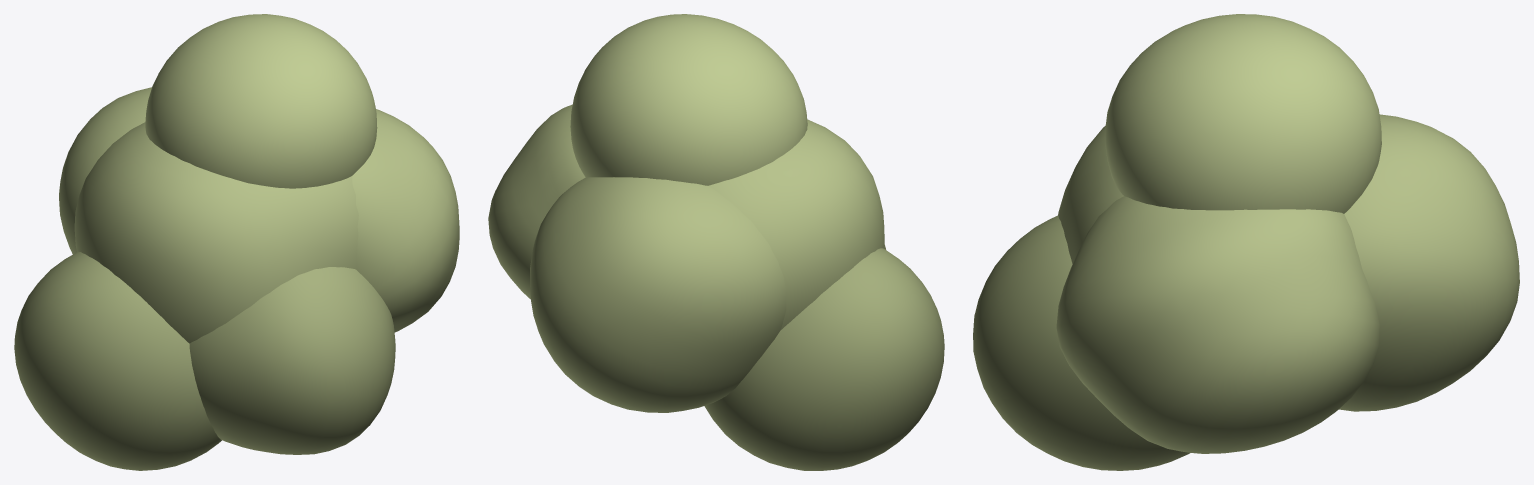
File: bush_a_spring.glb
3 views of the same model, side by side, from view 1: azimuth 30°, elevation 25°; view 2: azimuth 150°, elevation 25°; view 3: azimuth 270°, elevation 25° (orthographic). The views are drawn at different scales.
Parts seen in each view (by area): view 1: crown; view 2: crown; view 3: crown.
Boxes of the visible parts, <box> form: crown: <box>14,14,459,470</box>; crown: <box>488,14,944,470</box>; crown: <box>973,14,1519,470</box>.
Bounding box in the file's own units: 2.39 × 2.19 × 2.31.
